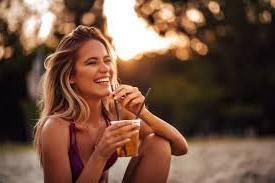Drunk: (76, 38, 113, 96)
